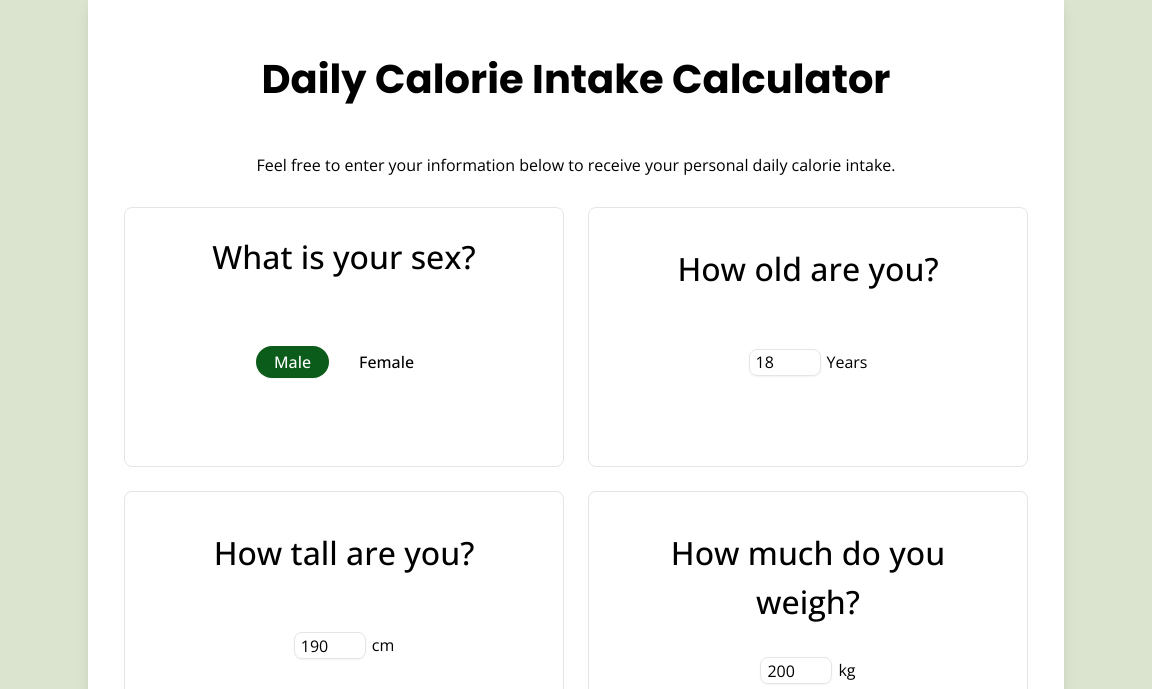
it: Home Component Validation Tests › shows validation errors when required fields are empty
# Clear inputs to simulate empty submission
Clear the number field labelled "Years": {"x": 784, "y": 362} [748,349,820,376]
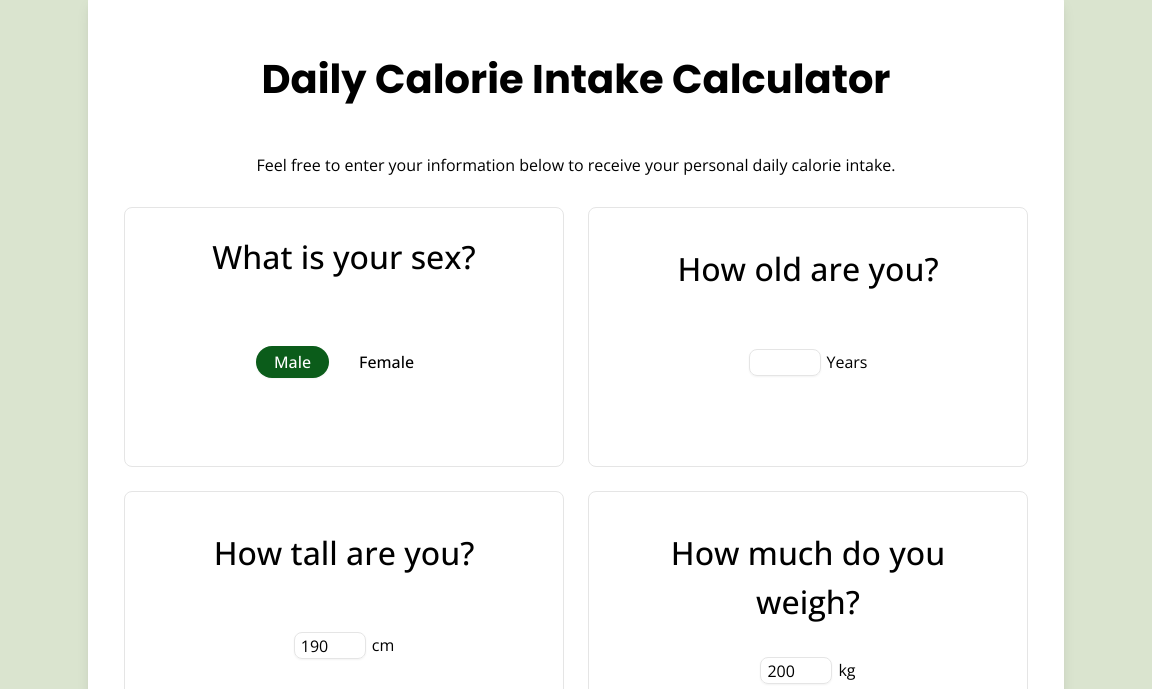
Clear the number field labelled "cm": {"x": 330, "y": 646} [294,632,366,659]
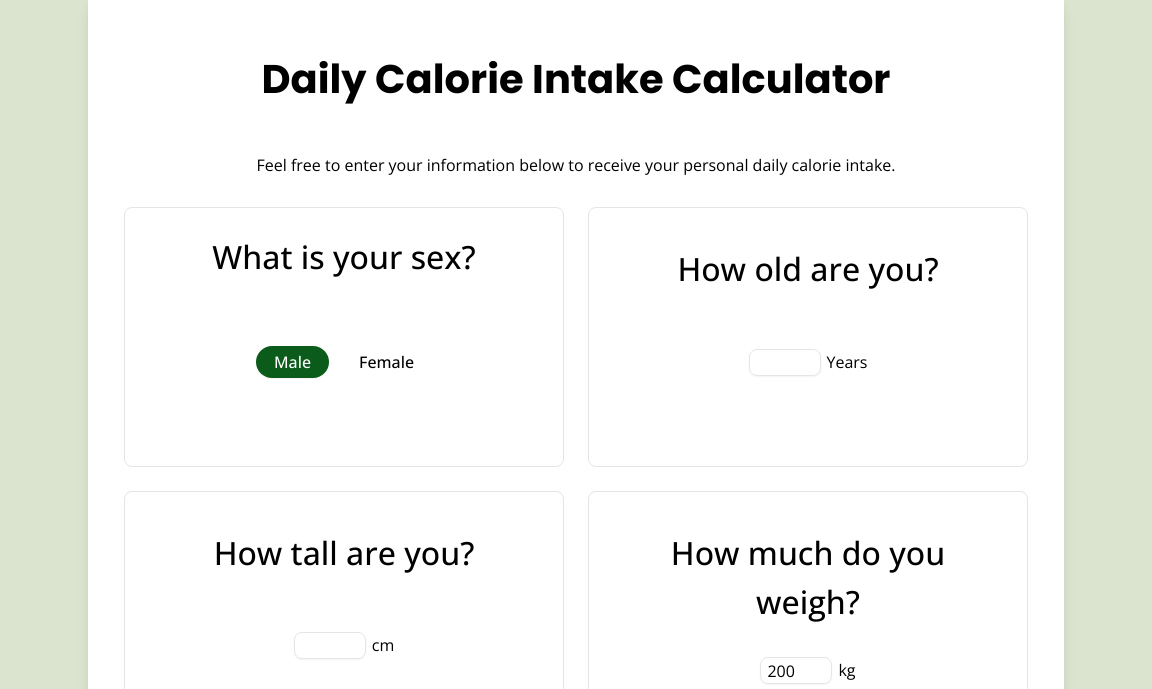
Clear the number field labelled "kg": {"x": 796, "y": 671} [760,657,832,684]
(page scrolled)
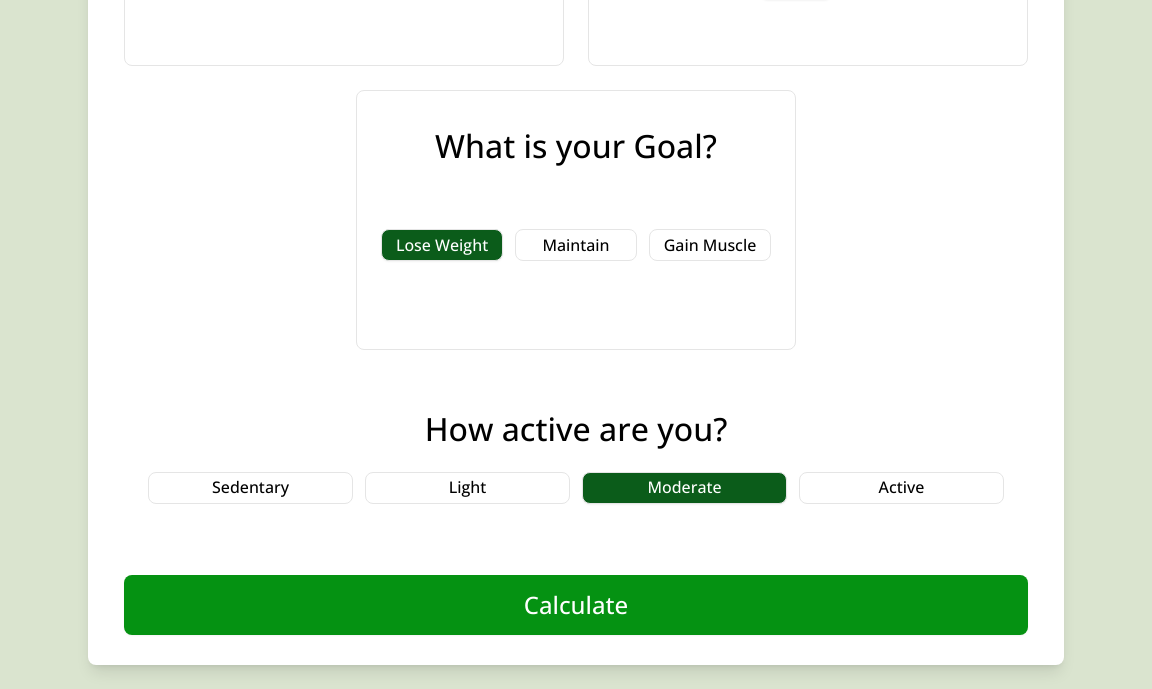
Click the button "Calculate": {"x": 576, "y": 604} [124,574,1028,634]
(page scrolled)
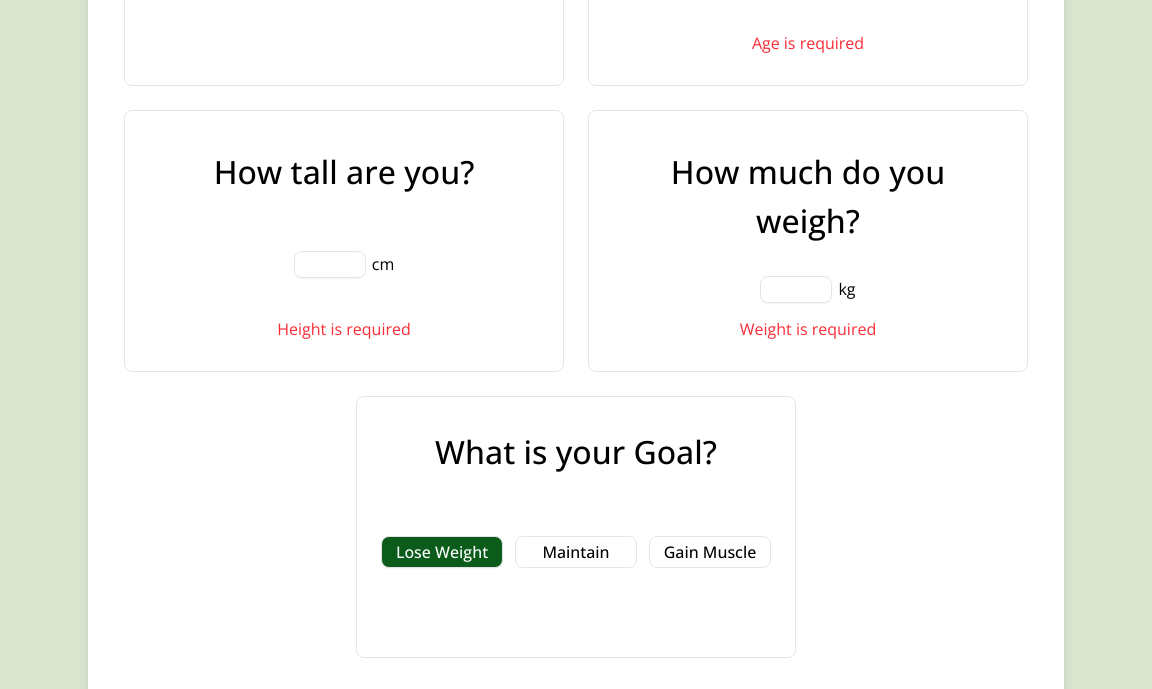
Expected: the text "Age is required" is shown, [752,32,864,54]
Expected: the text "Height is required" is shown, [277,318,411,341]
Expected: the text "Weight is required" is shown, [740,318,876,341]
